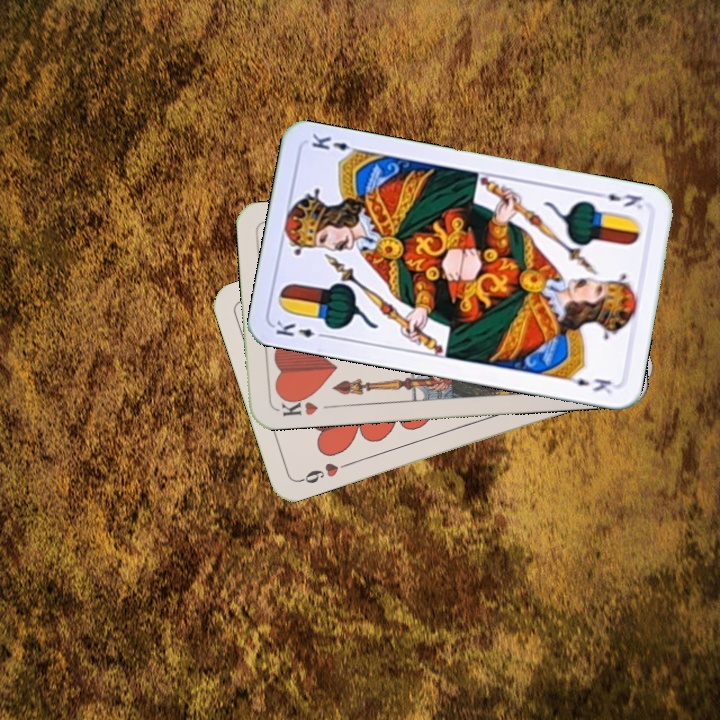EK: (271, 316, 330, 341), (591, 188, 645, 212)
H9: (295, 458, 353, 486)
HK: (276, 392, 320, 419)
